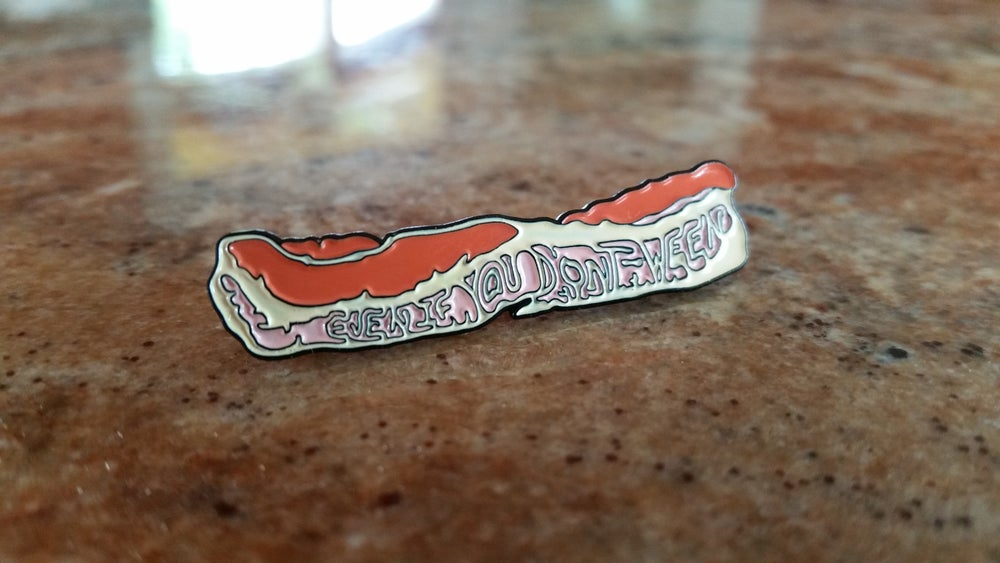bacon: (187, 122, 834, 365)
